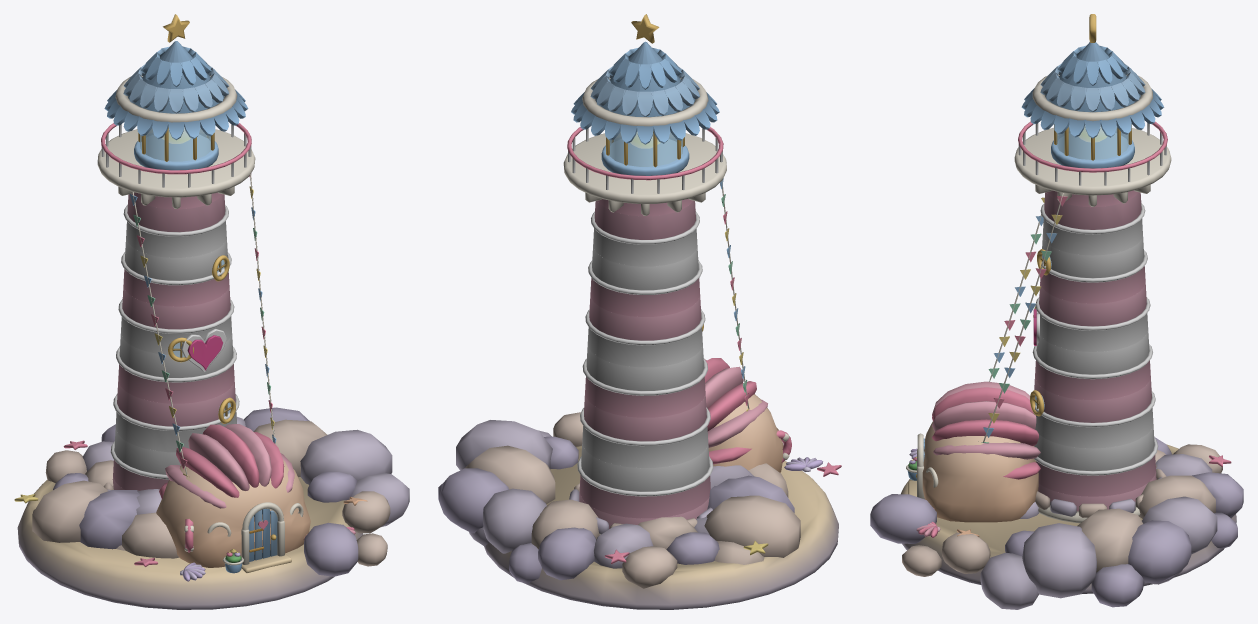
File: bubble-lagoon-lighthouse.glb
3 views of the same model, side by side, from view 1: azimuth 30°, elevation 25°; view 2: azimuth 150°, elevation 25°; view 3: azimuth 270°, elevation 25° (orthographic). The views are drawn at different scales.
Visible parts, largest first — view 1: W_BUBBLE_LAGOON_LIGHTHOUSE__body; view 2: W_BUBBLE_LAGOON_LIGHTHOUSE__body; view 3: W_BUBBLE_LAGOON_LIGHTHOUSE__body.
Part boxes in pixels (x1,y1,x2,y2): W_BUBBLE_LAGOON_LIGHTHOUSE__body: [14, 14, 409, 609]; W_BUBBLE_LAGOON_LIGHTHOUSE__body: [438, 14, 841, 609]; W_BUBBLE_LAGOON_LIGHTHOUSE__body: [870, 14, 1243, 609].
Size of the model in its own units: 1.39 by 2 by 1.32.
